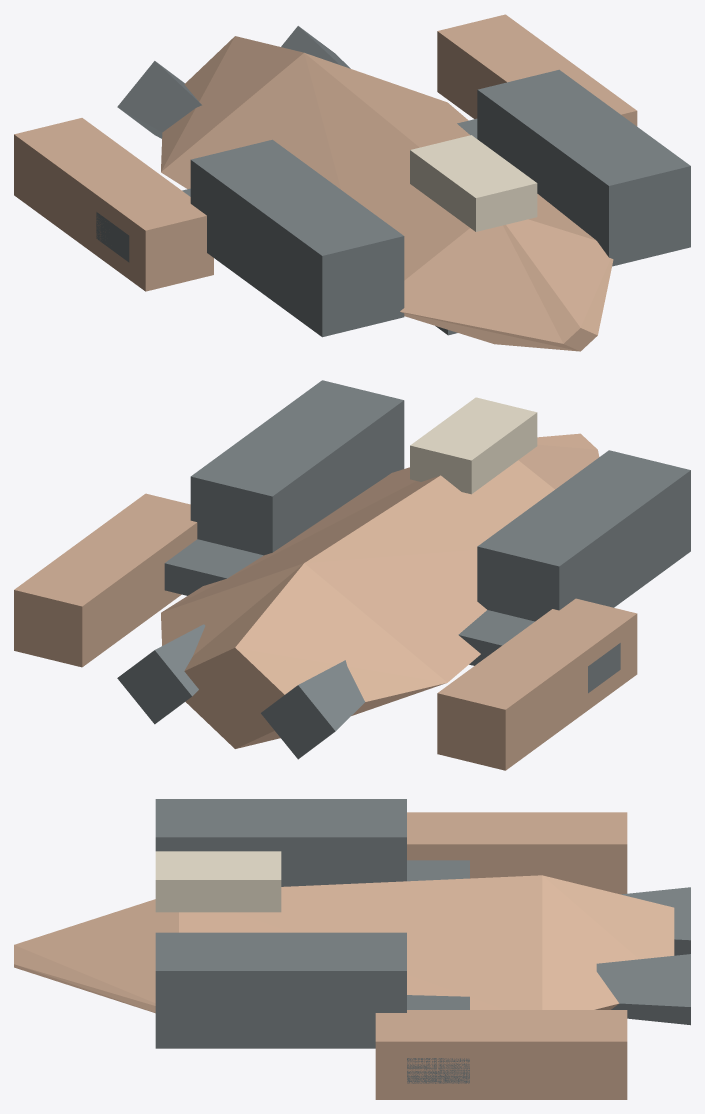
3 views of the same model, one above another, from view 1: azimuth 30°, elevation 25°; view 2: azimuth 150°, elevation 25°; view 3: azimuth 270°, elevation 25° (orthographic). The views are drawn at different scales.
Bounding box in the file's own units: 3.31 × 1.16 × 4.13.
